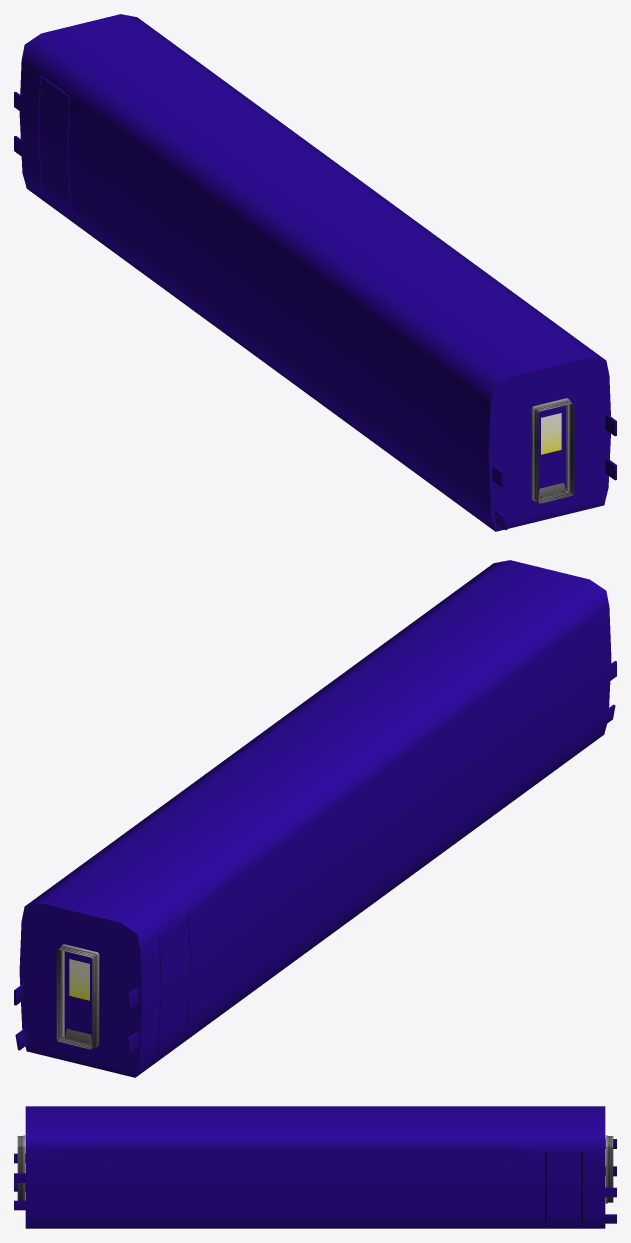
Rendered from RAPID_01.glb.
The picture shows the model from 3 angles, top to bottom: view 1: azimuth 30°, elevation 25°; view 2: azimuth 150°, elevation 25°; view 3: azimuth 270°, elevation 25°; orthographic projection. The views are drawn at different scales.
Visible parts, largest first — view 1: obj31; view 2: obj31; view 3: obj31.
Boxes of the visible parts, x1=… form: obj31: x1=14, y1=14, x2=616, y2=531; obj31: x1=14, y1=560, x2=616, y2=1077; obj31: x1=14, y1=1106, x2=616, y2=1228.
Size of the model in its own units: 6.49 by 7.65 by 44.62.
Materials: 6 (6 with a texture image).
